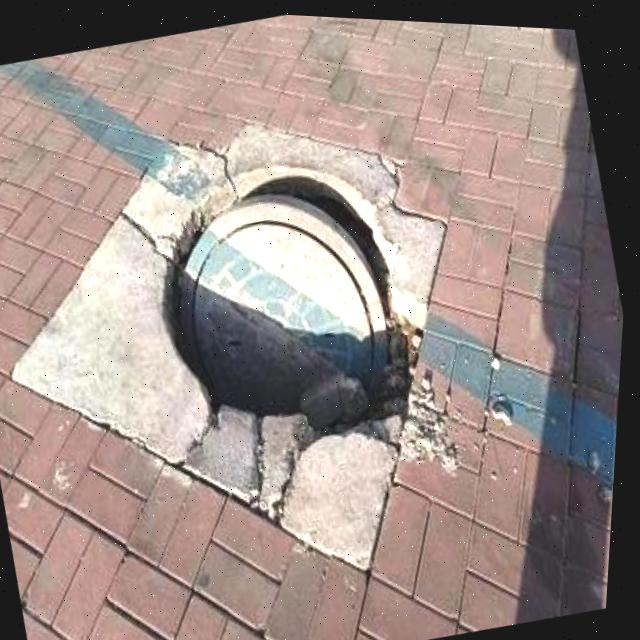manhole: (118, 118, 454, 489)
